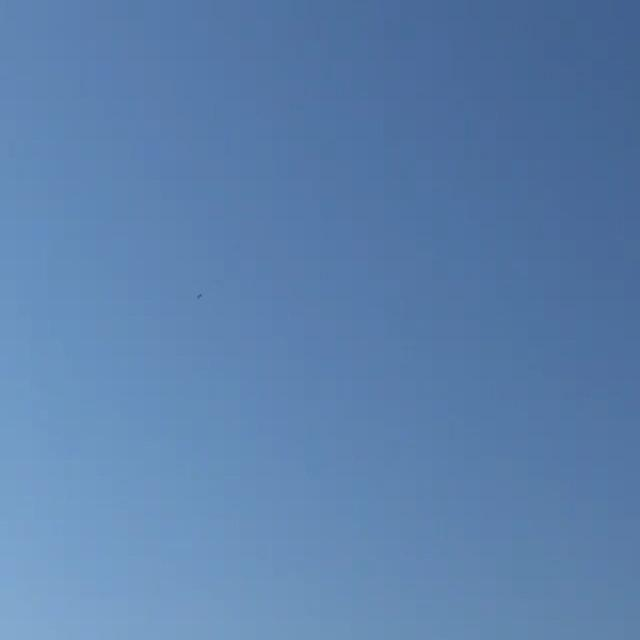bird: (195, 290, 206, 304)
